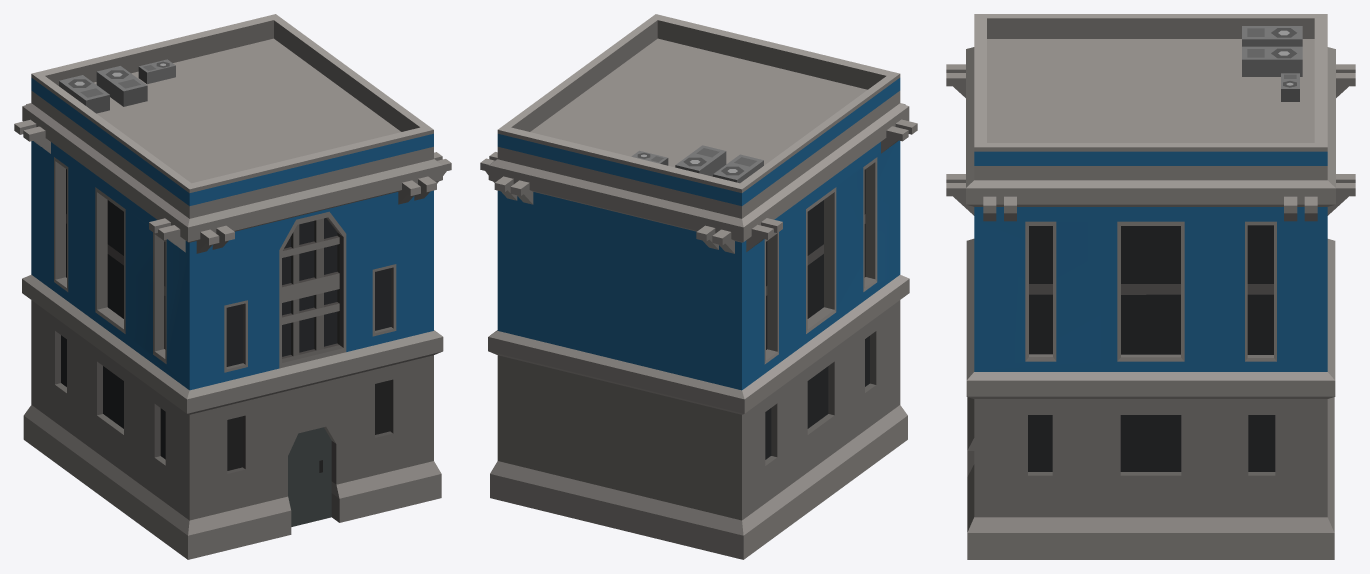
The model's file is SA_Bld_WarehouseOld_02.glb.
The picture shows the model from 3 angles, left to right: view 1: azimuth 30°, elevation 25°; view 2: azimuth 150°, elevation 25°; view 3: azimuth 270°, elevation 25°; orthographic projection. The views are drawn at different scales.
Parts seen in each view (by area): view 1: SA_Bld_WarehouseOld_02; view 2: SA_Bld_WarehouseOld_02; view 3: SA_Bld_WarehouseOld_02.
Part boxes in pixels (x1,y1,x2,y2): SA_Bld_WarehouseOld_02: [14, 14, 451, 559]; SA_Bld_WarehouseOld_02: [480, 14, 917, 559]; SA_Bld_WarehouseOld_02: [946, 14, 1355, 559].
Bounding box in the file's own units: 6.16 × 7.51 × 6.79.
Materials: 1 (1 with a texture image).
